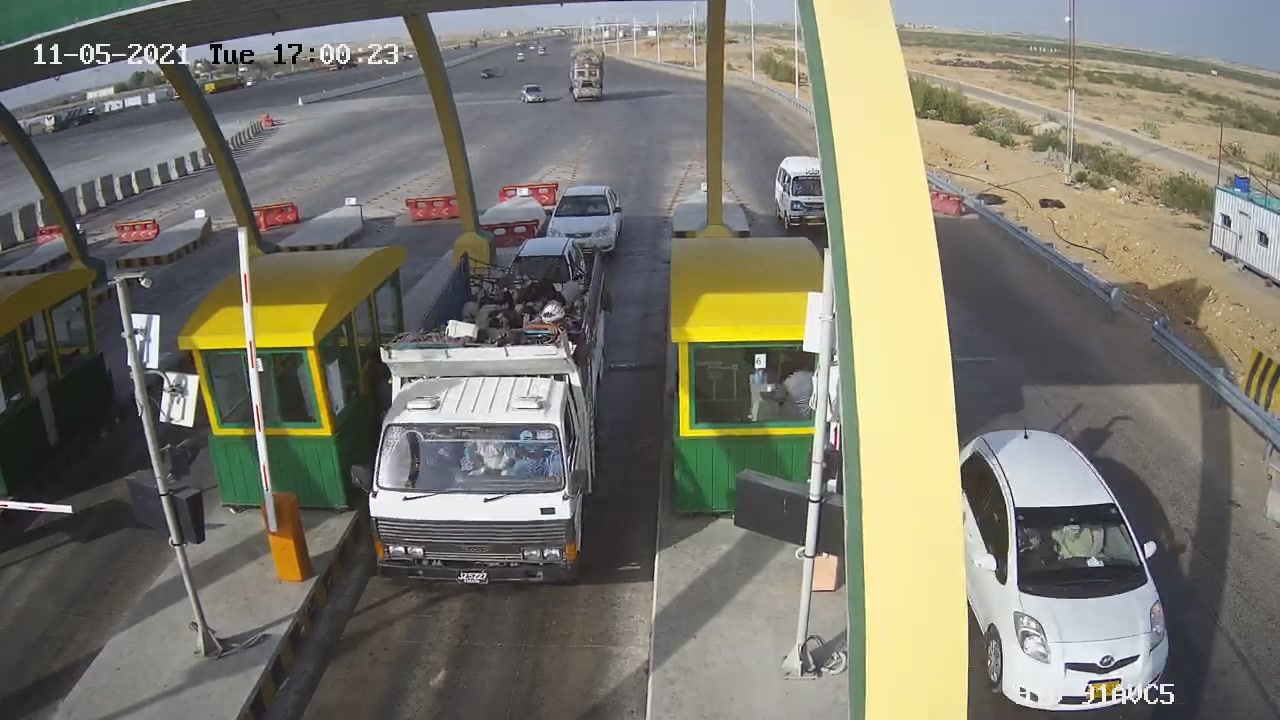F1: (529, 179, 638, 268)
F3: (369, 232, 623, 591)
